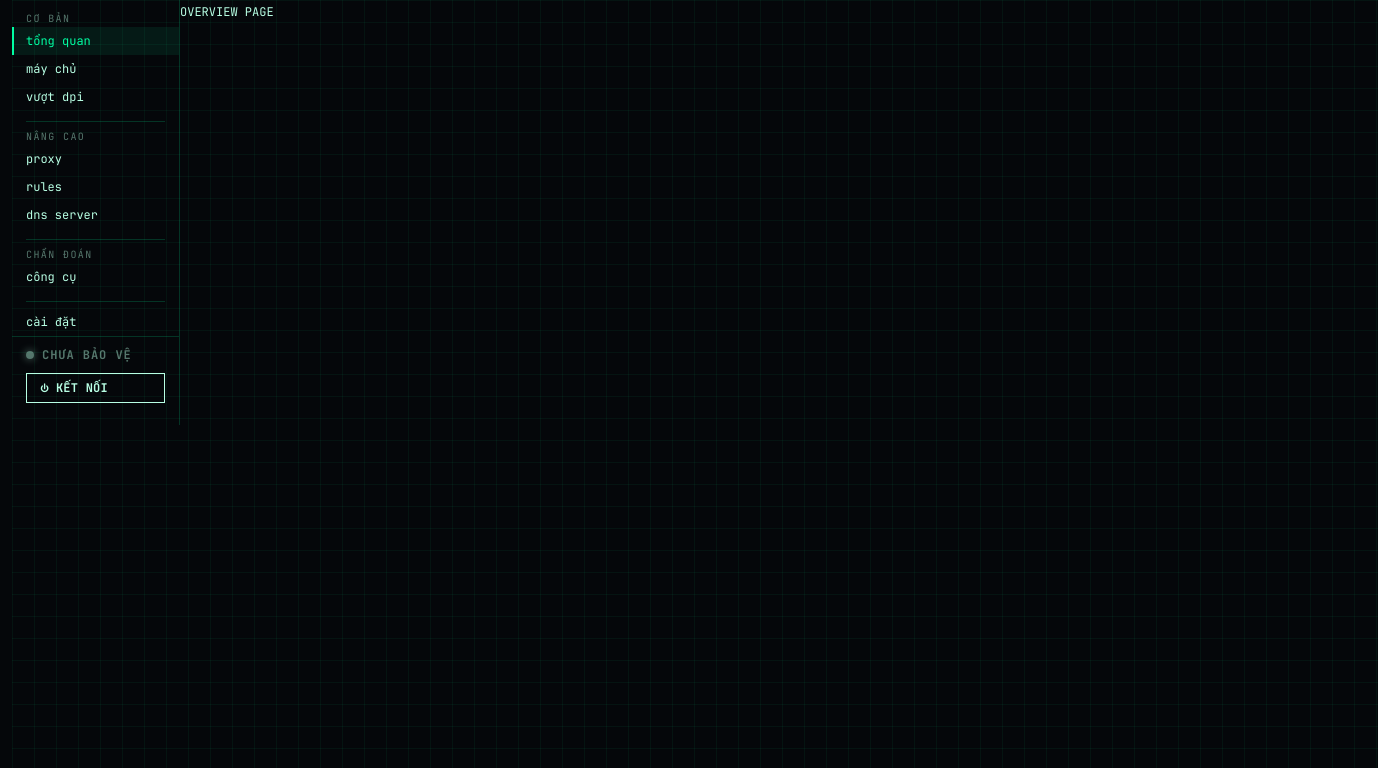
Scenario: proxy has a fake sni tab
What coordinates should you click on to do the following:
click the button "proxy"
I would click on:
 (96, 159)
Its box is [12, 145, 179, 173].
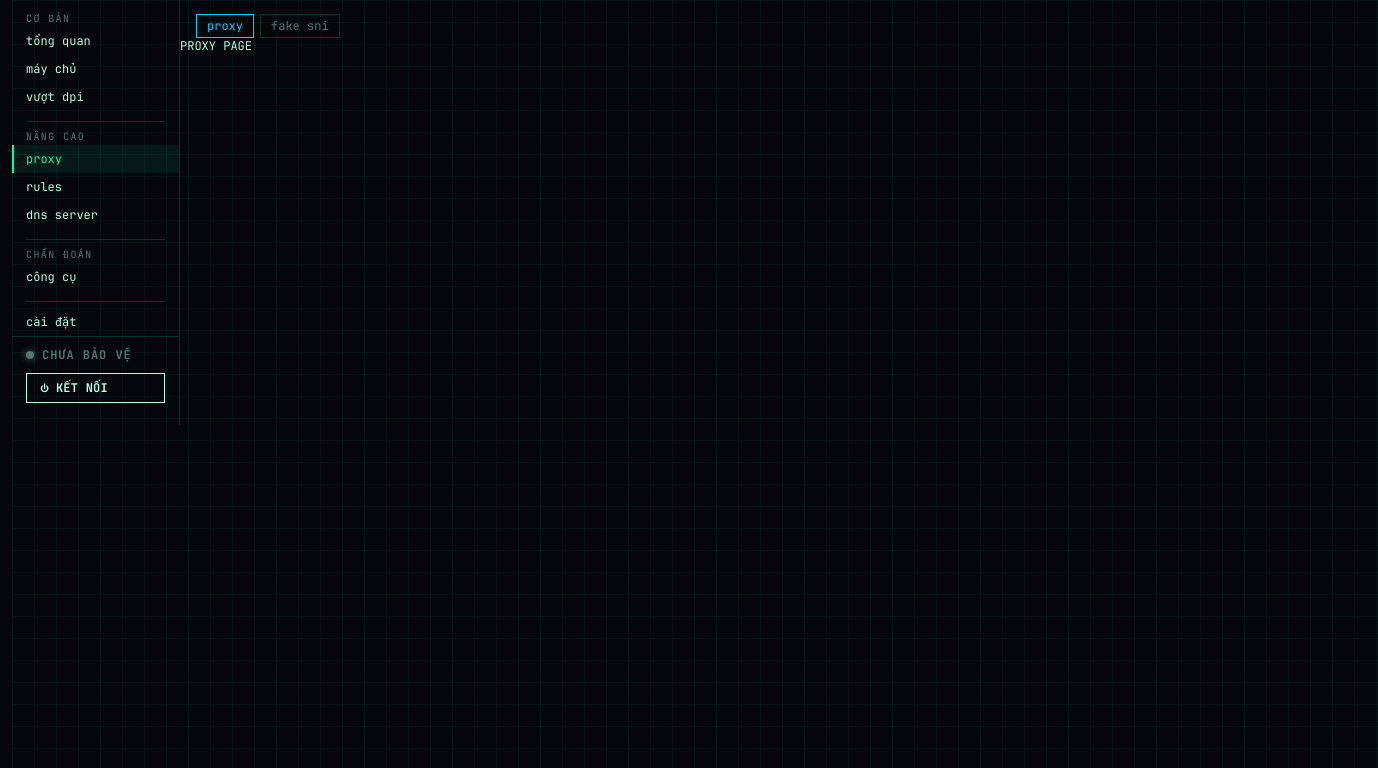
Expected: the text "PROXY PAGE" is shown, [180, 38, 252, 54]
What coordinates should you click on to do the following:
click the tab "fake sni"
I would click on:
 (300, 26)
Its box is [260, 14, 340, 38].
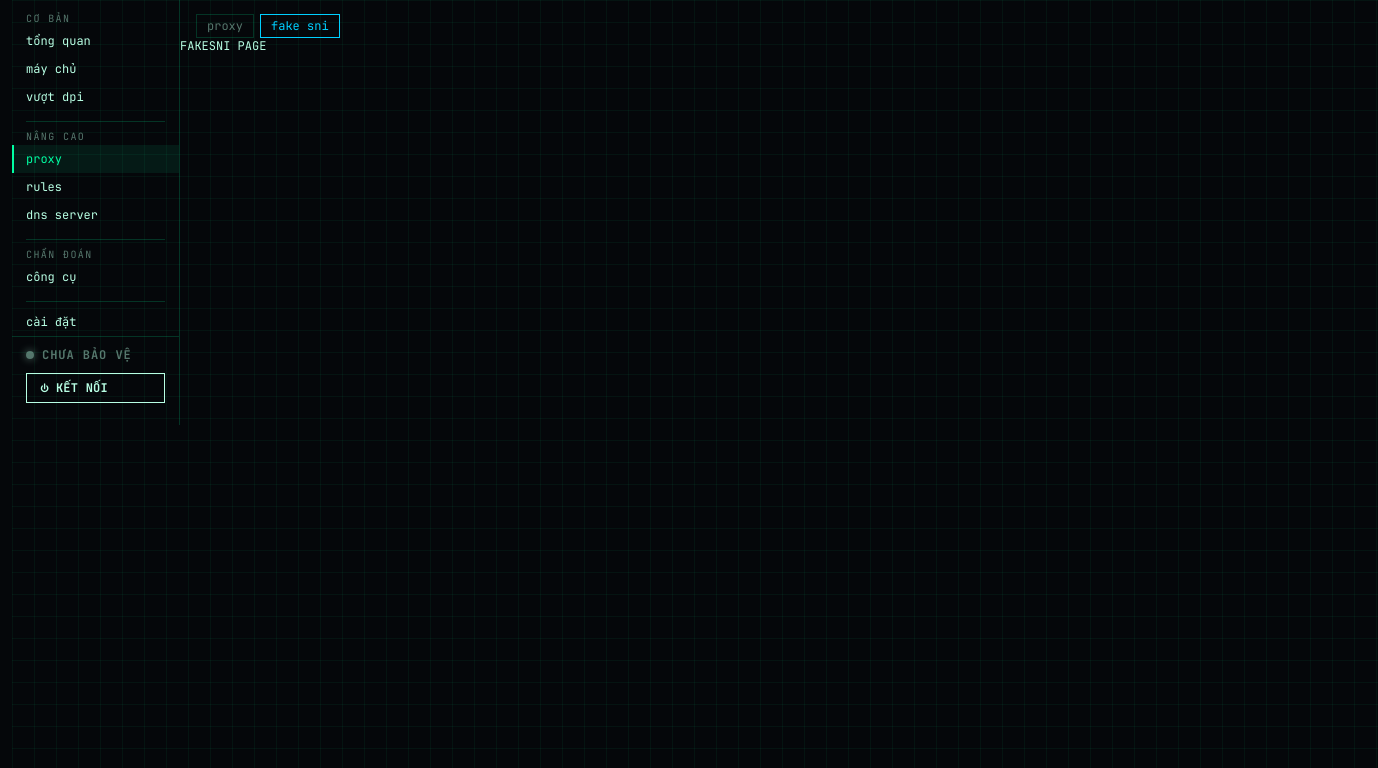
Expected: the text "FAKESNI PAGE" is shown, [180, 38, 266, 54]
